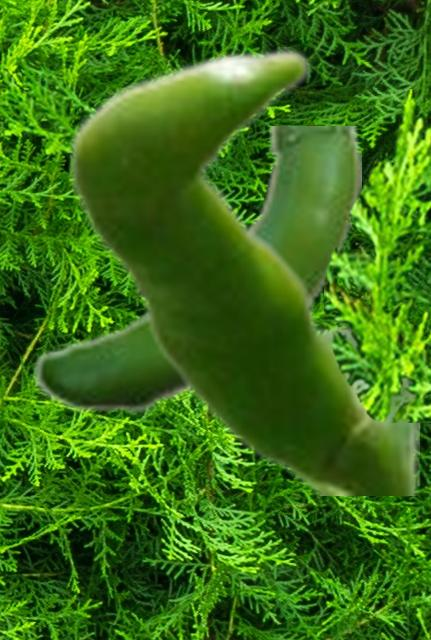green_chili: (67, 47, 418, 494), (31, 126, 360, 415)
